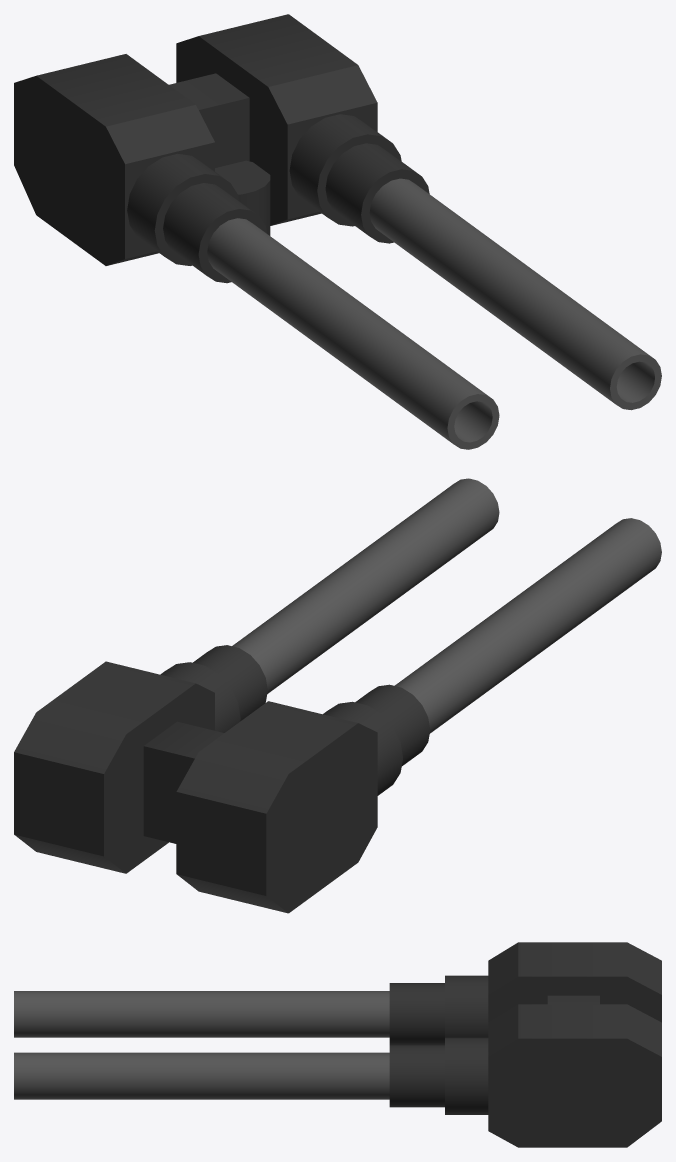
File: mp_ball_cannon_k.FBX
3 renders of one model, top to bottom at view 1: azimuth 30°, elevation 25°; view 2: azimuth 150°, elevation 25°; view 3: azimuth 270°, elevation 25°, orthographic. The views are drawn at different scales.
Parts seen in each view (by area): view 1: Object001; view 2: Object001; view 3: Object001.
Part boxes in pixels (box(x1,y1,x2,y2)): Object001: box(14, 14, 661, 449); Object001: box(14, 478, 661, 913); Object001: box(14, 942, 661, 1147).
Size of the model in its own units: 73.04 by 39.5 by 208.
